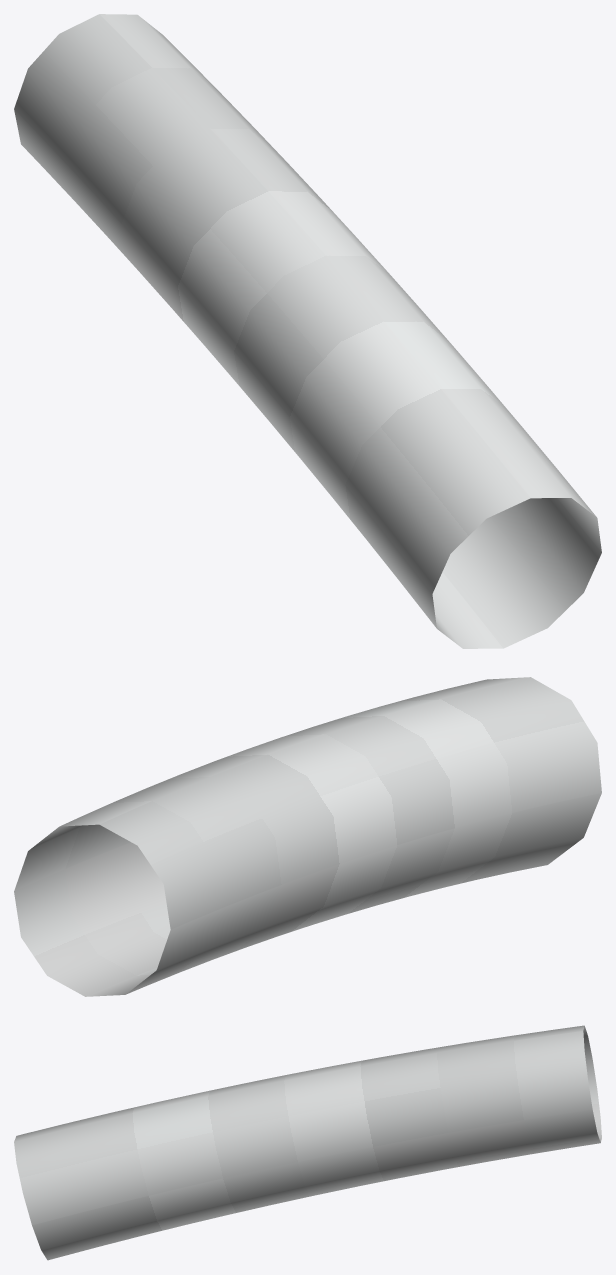
File: luminairearm_laupsweep12ft_c5.obj
The picture shows the model from 3 angles, top to bottom: view 1: azimuth 30°, elevation 25°; view 2: azimuth 150°, elevation 25°; view 3: azimuth 270°, elevation 25°; orthographic projection. The views are drawn at different scales.
Visible parts, largest first — view 1: luminairearm_laupsweep12ft_c5; view 2: luminairearm_laupsweep12ft_c5; view 3: luminairearm_laupsweep12ft_c5.
Boxes of the visible parts, x1,y1,x2,y2 form: luminairearm_laupsweep12ft_c5: (14, 14, 601, 648); luminairearm_laupsweep12ft_c5: (14, 677, 601, 996); luminairearm_laupsweep12ft_c5: (14, 1025, 601, 1260).
Bounding box in the file's own units: 0.21 × 0.4009 × 0.956.
